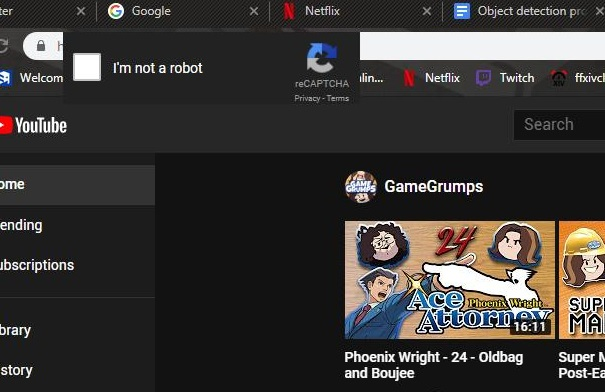captcha: (72, 53, 204, 82)
